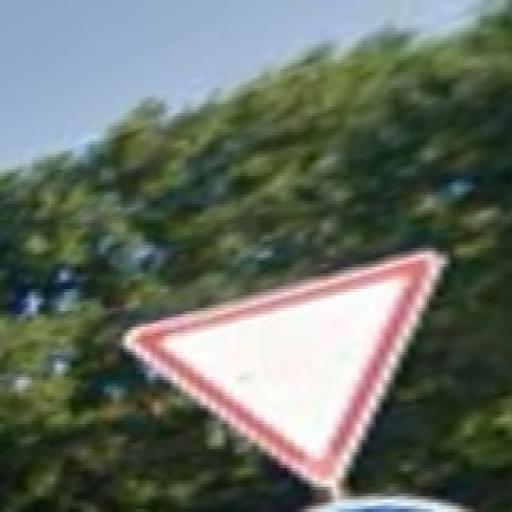traffic_sign: (122, 249, 449, 488)
